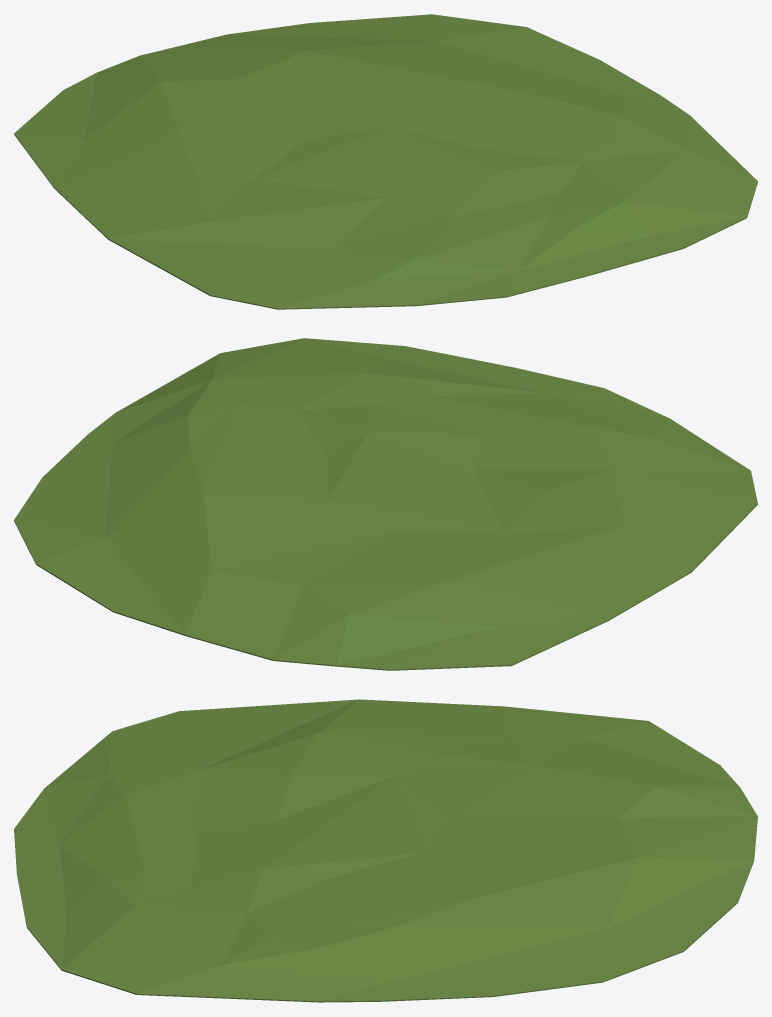
The model's file is Mud_08.fbx.
3 views of the same model, one above another, from view 1: azimuth 30°, elevation 25°; view 2: azimuth 150°, elevation 25°; view 3: azimuth 270°, elevation 25° (orthographic). The views are drawn at different scales.
Parts seen in each view (by area): view 1: Mud_08; view 2: Mud_08; view 3: Mud_08.
Part boxes in pixels (<box>): Mud_08: <box>14,14,757,309</box>; Mud_08: <box>14,338,757,670</box>; Mud_08: <box>14,699,757,1002</box>.
Bounding box in the file's own units: 4.17 × 0.1564 × 4.35.
